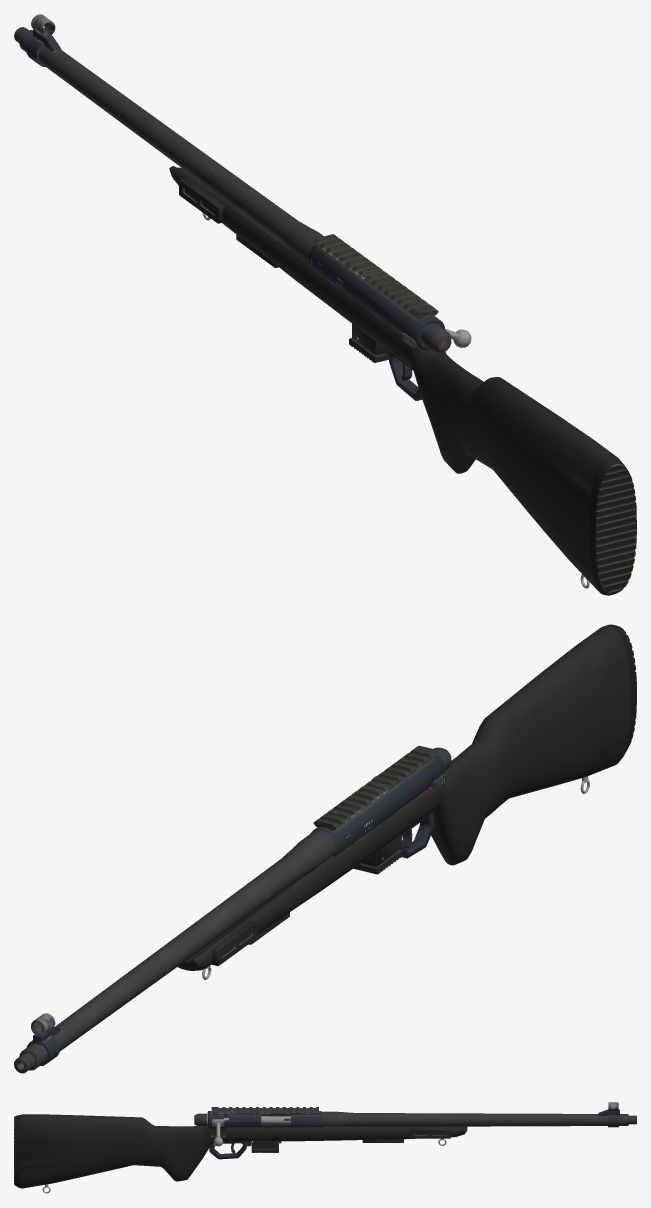
Rendered from rifle_22_sintetico_leve.glb.
3 views of the same model, one above another, from view 1: azimuth 30°, elevation 25°; view 2: azimuth 150°, elevation 25°; view 3: azimuth 270°, elevation 25° (orthographic). The views are drawn at different scales.
Visible parts, largest first — view 1: rifle_22_sintetico_leve; view 2: rifle_22_sintetico_leve; view 3: rifle_22_sintetico_leve.
Part boxes in pixels (x1,y1,x2,y2): rifle_22_sintetico_leve: (14,14,636,595); rifle_22_sintetico_leve: (14,624,636,1073); rifle_22_sintetico_leve: (14,1102,636,1193).
Size of the model in its own units: 0.0628 by 0.1491 by 0.9287.
Materials: 1 (1 with a texture image).
